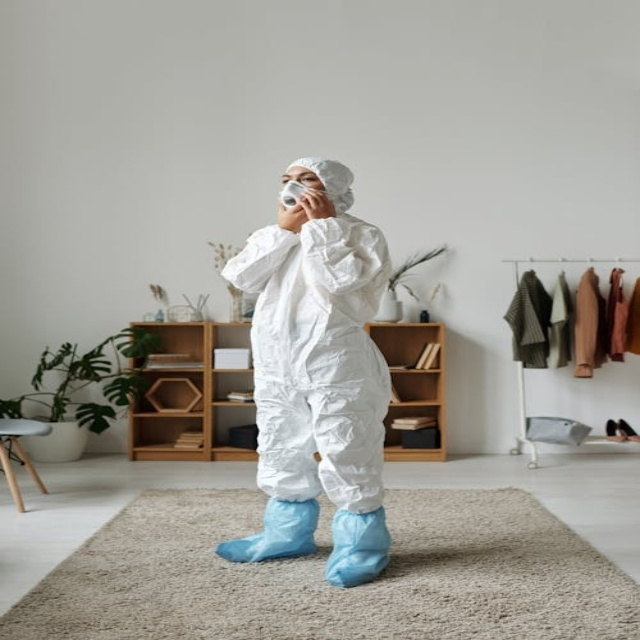Mascara: (280, 180, 332, 210)
Sin_gafas: (280, 169, 321, 185)
Sin_guantes: (300, 188, 340, 220)
